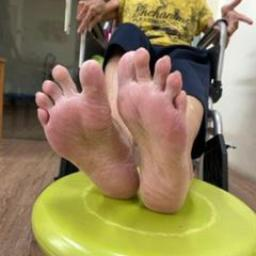Plantar View -Both Feet-: (24, 30, 218, 228)
